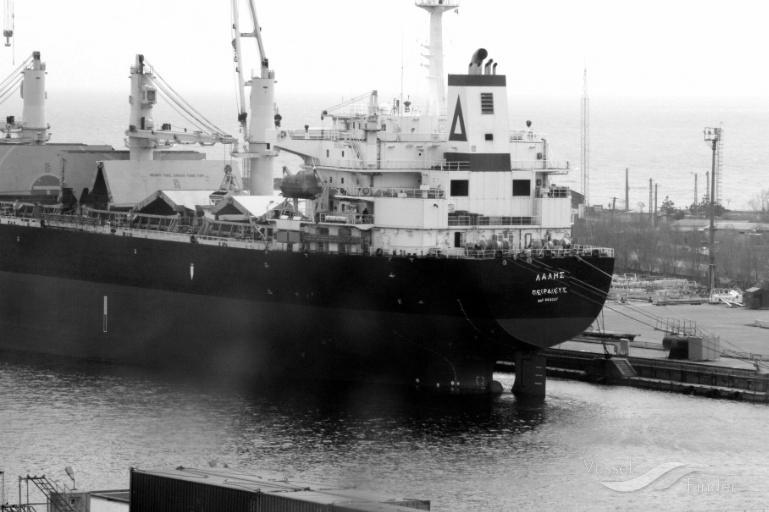OCR: (516, 268, 570, 310)
